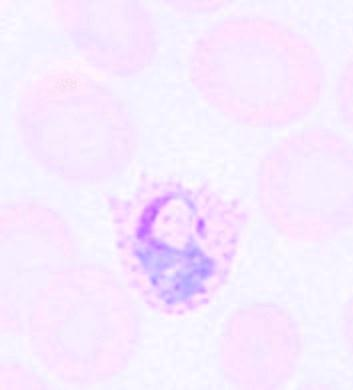Infected: (104, 171, 251, 317)
Uninfected: (189, 15, 324, 128), (30, 259, 143, 386), (16, 71, 139, 179), (256, 122, 353, 244), (0, 199, 82, 332), (220, 294, 301, 390), (55, 0, 156, 74)
